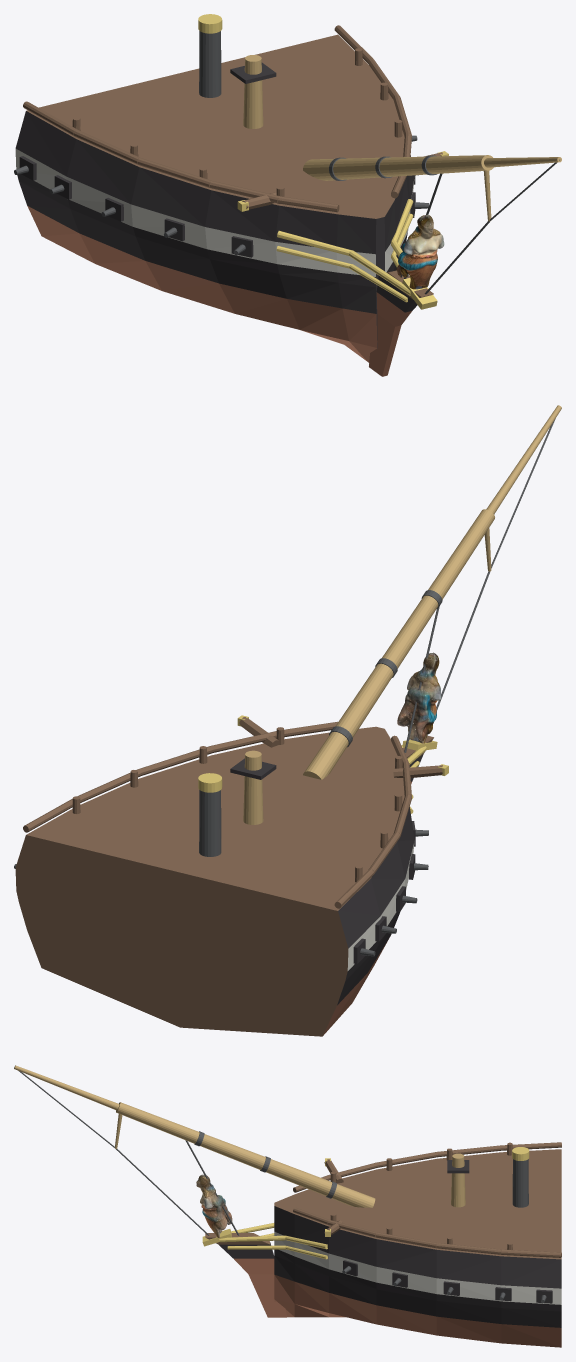
Rendered from aurora.glb.
3 views of the same model, one above another, from view 1: azimuth 30°, elevation 25°; view 2: azimuth 150°, elevation 25°; view 3: azimuth 270°, elevation 25° (orthographic). The views are drawn at different scales.
Parts seen in each view (by area): view 1: aurora_ParentBow, aurora_Figurehead; view 2: aurora_ParentBow, aurora_Figurehead; view 3: aurora_ParentBow, aurora_Figurehead.
Part boxes in pixels (left/top/right/bottom): aurora_ParentBow: left=14, top=14, right=561, bottom=376; aurora_Figurehead: left=396, top=214, right=444, bottom=289; aurora_ParentBow: left=14, top=405, right=561, bottom=1036; aurora_Figurehead: left=397, top=652, right=441, bottom=743; aurora_ParentBow: left=14, top=1065, right=561, bottom=1347; aurora_Figurehead: left=196, top=1174, right=232, bottom=1237.
Bounding box in the file's own units: 14.24 × 13.12 × 25.96.
Materials: 2 (2 with a texture image).
